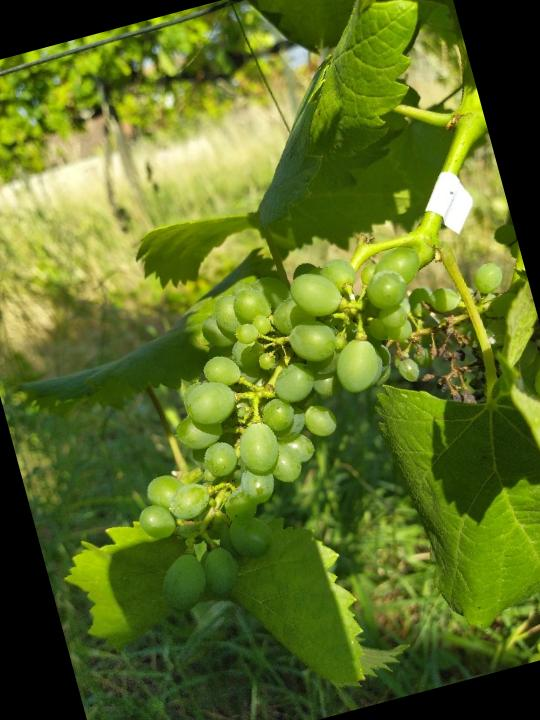grape: (76, 231, 504, 626)
